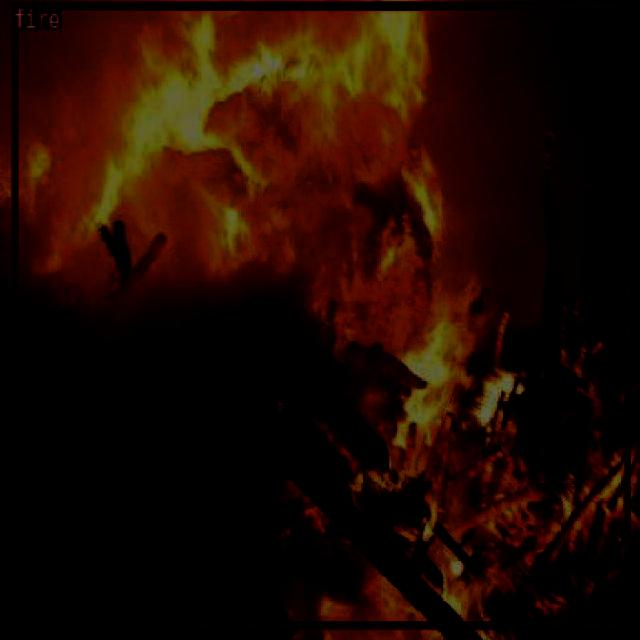fire: (11, 1, 630, 628)
